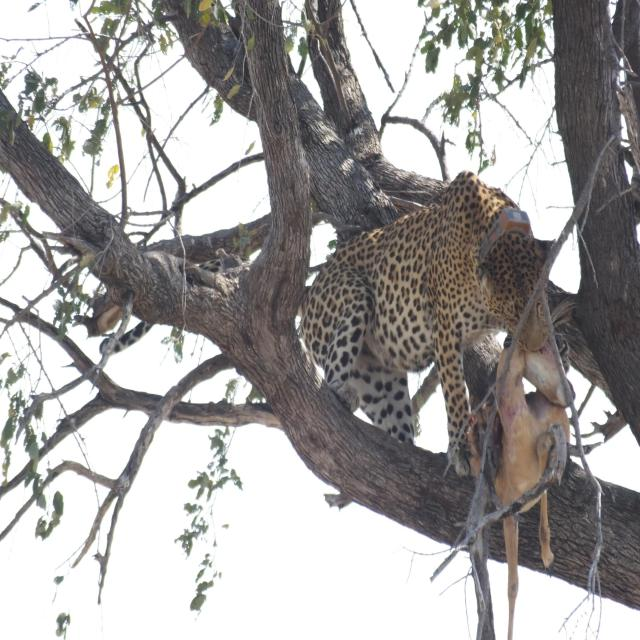Leopard: (76, 161, 571, 457)
